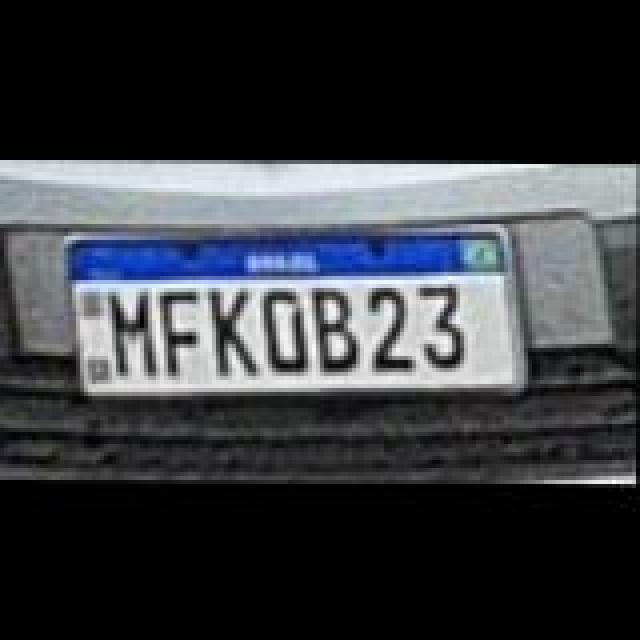2: (368, 286, 420, 374)
3: (418, 282, 466, 370)
B: (312, 286, 364, 374)
D: (260, 290, 312, 378)
F: (158, 290, 206, 378)
K: (208, 290, 260, 378)
M: (108, 292, 160, 380)
